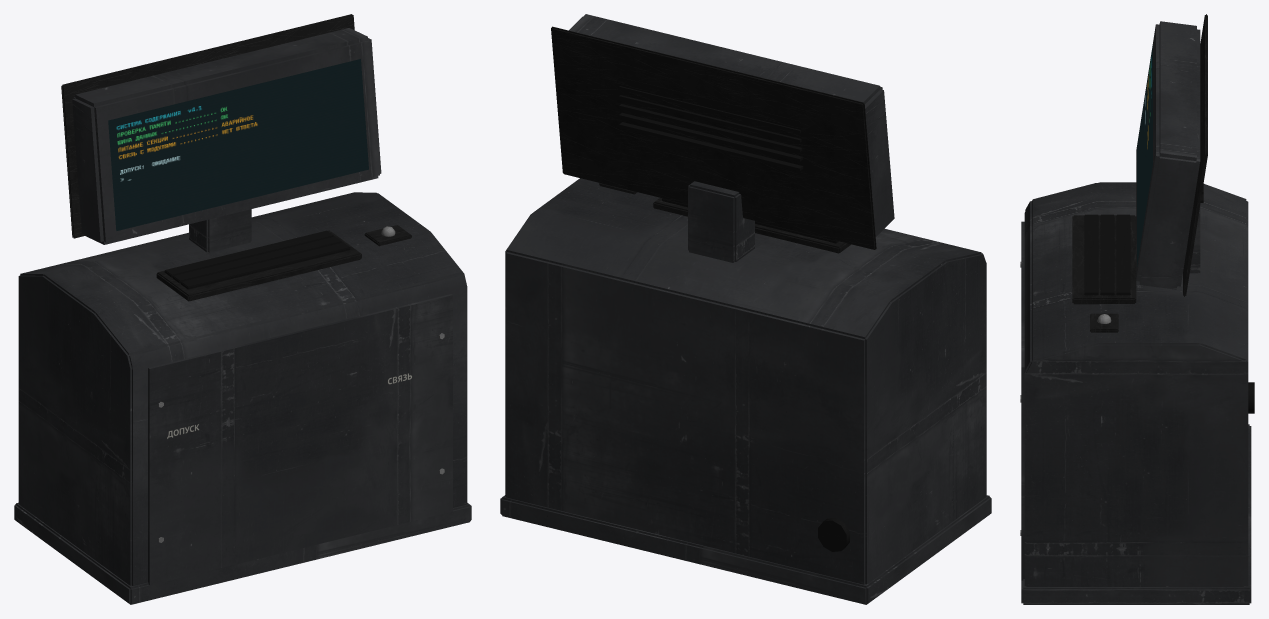
Rendered from terminal_console.gltf.
3 renders of one model, left to right at view 1: azimuth 30°, elevation 25°; view 2: azimuth 150°, elevation 25°; view 3: azimuth 270°, elevation 25°, orthographic. The views are drawn at different scales.
Parts seen in each view (by area): view 1: Body, Screen; view 2: Body; view 3: Body, Screen.
Boxes of the visible parts, <box> form: Body: <box>14,14,471,604</box>; Screen: <box>108,59,368,230</box>; Body: <box>500,14,991,604</box>; Body: <box>1020,14,1254,604</box>; Screen: <box>1137,44,1152,266</box>.
Bounding box in the file's own units: 1.22 × 1.52 × 0.733.
Materials: 8 (6 with a texture image).
